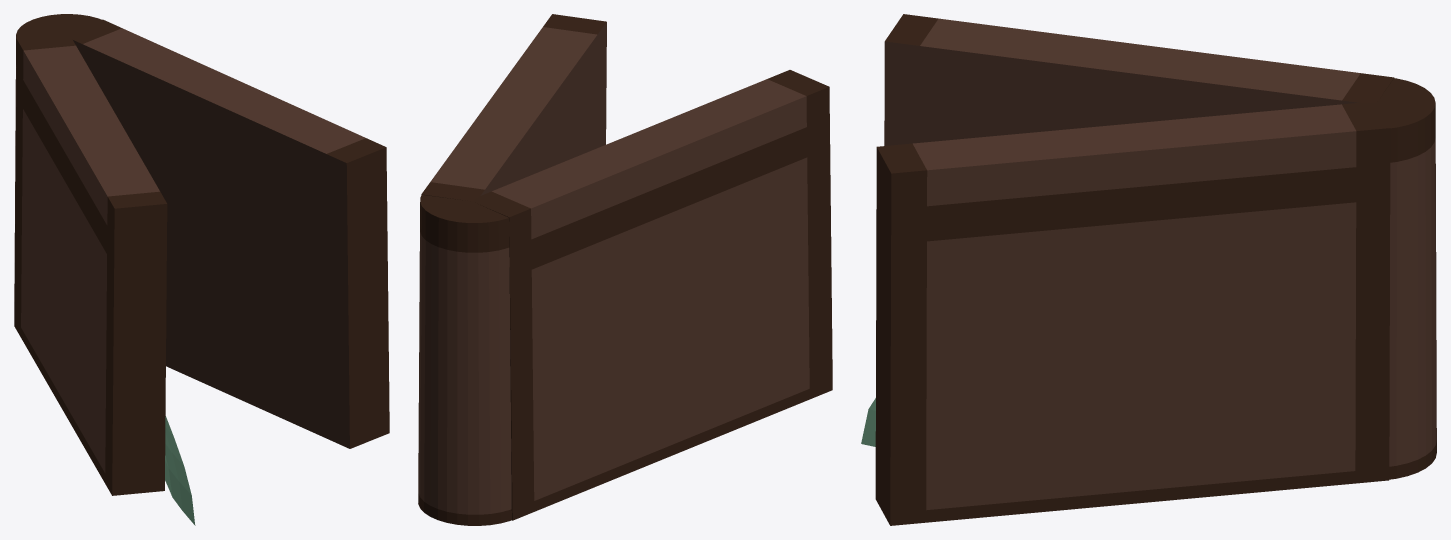
The model's file is Wallet Half.fbx.
3 views of the same model, side by side, from view 1: azimuth 30°, elevation 25°; view 2: azimuth 150°, elevation 25°; view 3: azimuth 270°, elevation 25° (orthographic). The views are drawn at different scales.
Visible parts, largest first — view 1: Cube, Cube.003; view 2: Cube.003, Cube; view 3: Cube, Cube.003.
Part boxes in pixels (box(x1,y1,x2,y2)): Cube: box(42, 14, 389, 448); Cube.003: box(14, 17, 195, 525); Cube.003: box(447, 70, 832, 525); Cube: box(418, 14, 606, 522); Cube: box(875, 102, 1436, 525); Cube.003: box(861, 14, 1435, 446).
Bounding box in the file's own units: 303 × 357 × 452.
